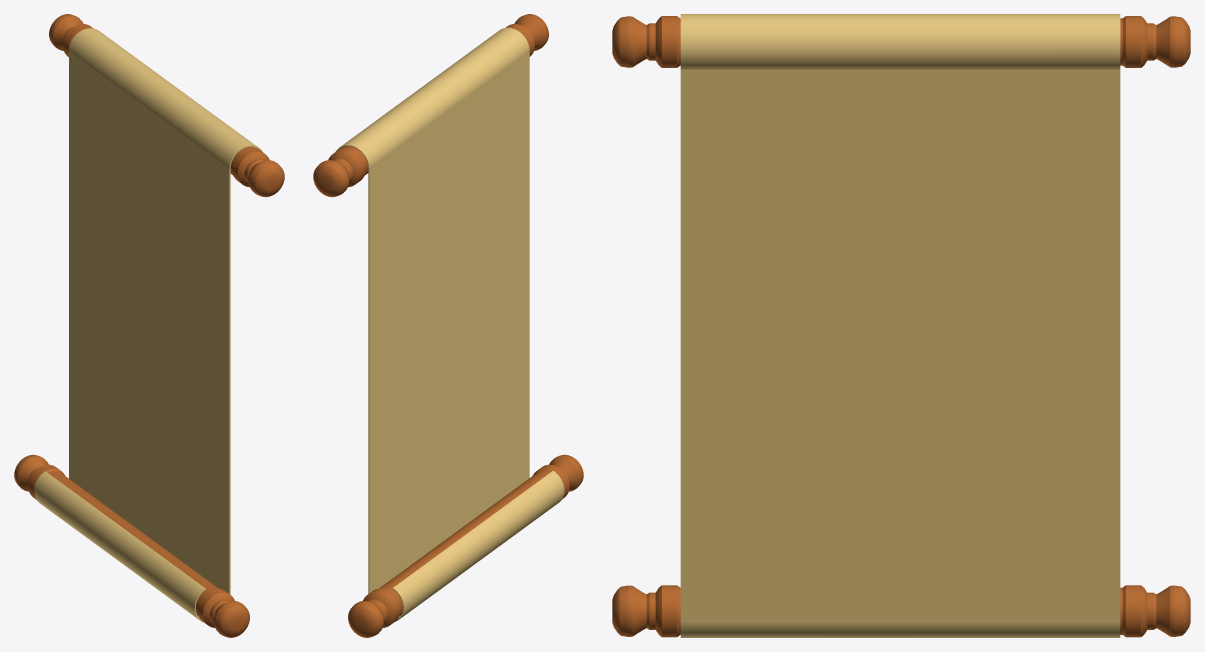
Rendered from COOLscroll.fbx.
The picture shows the model from 3 angles, left to right: view 1: azimuth 30°, elevation 25°; view 2: azimuth 150°, elevation 25°; view 3: azimuth 270°, elevation 25°; orthographic projection. The views are drawn at different scales.
Visible parts, largest first — view 1: Cube, Cylinder, Cylinder.001, Cylinder.003, Cylinder.002; view 2: Cube, Cylinder, Cylinder.001, Cylinder.003, Cylinder.002; view 3: Cube, Cylinder, Cylinder.001, Cylinder.003, Cylinder.002.
Part boxes in pixels (box(x1,y1,x2,y2)): Cube: box(69, 52, 230, 594); Cylinder: box(69, 28, 262, 169); Cylinder.001: box(34, 471, 205, 622); Cylinder.003: box(14, 454, 249, 637); Cylinder.002: box(49, 14, 284, 197); Cube: box(368, 52, 529, 593); Cylinder: box(336, 27, 529, 169); Cylinder.001: box(393, 470, 564, 621); Cylinder.003: box(348, 454, 583, 637); Cylinder.002: box(313, 14, 548, 197); Cube: box(680, 70, 1120, 621); Cylinder: box(680, 14, 1120, 70); Cylinder.001: box(680, 621, 1120, 637); Cylinder.003: box(612, 585, 1190, 637); Cylinder.002: box(612, 16, 1190, 67).
Bounding box in the file's own units: 91.34 × 580 × 474.
